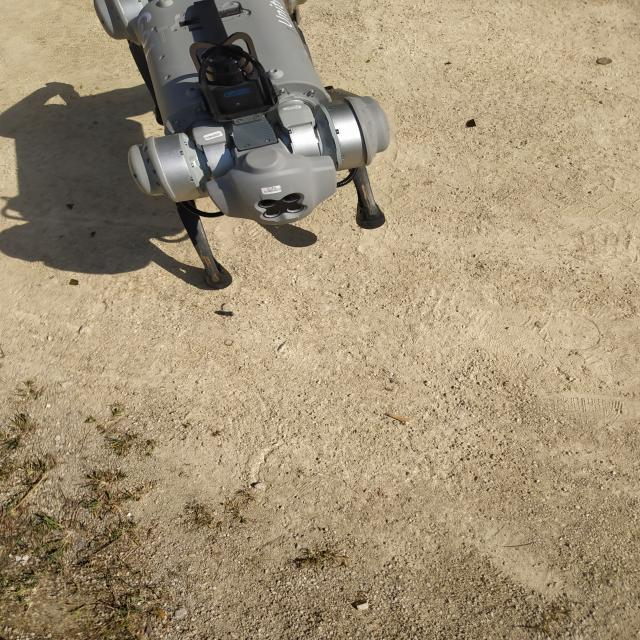unitree-go1-robot: (73, 0, 444, 304)
